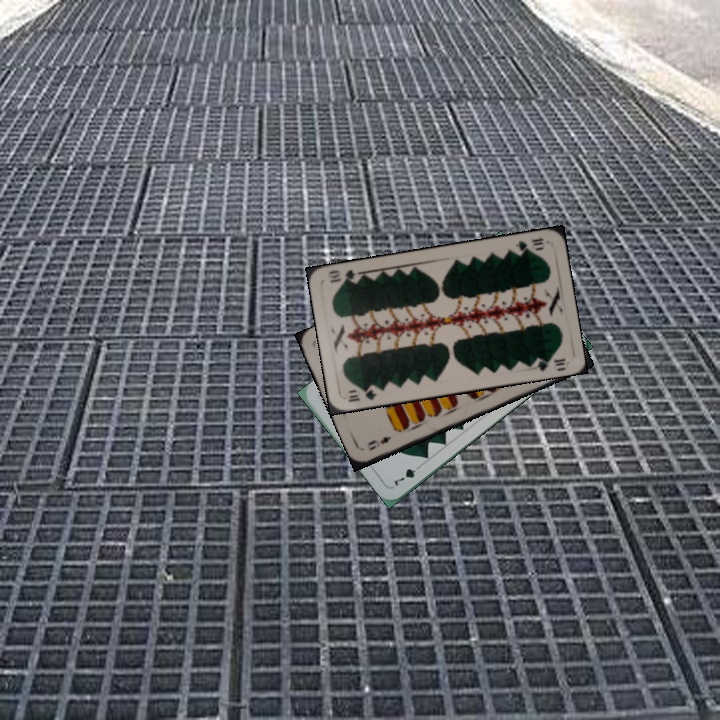E9: (364, 432, 394, 453)
G10: (512, 234, 546, 256), (344, 384, 379, 404)
G7: (389, 460, 425, 489)
